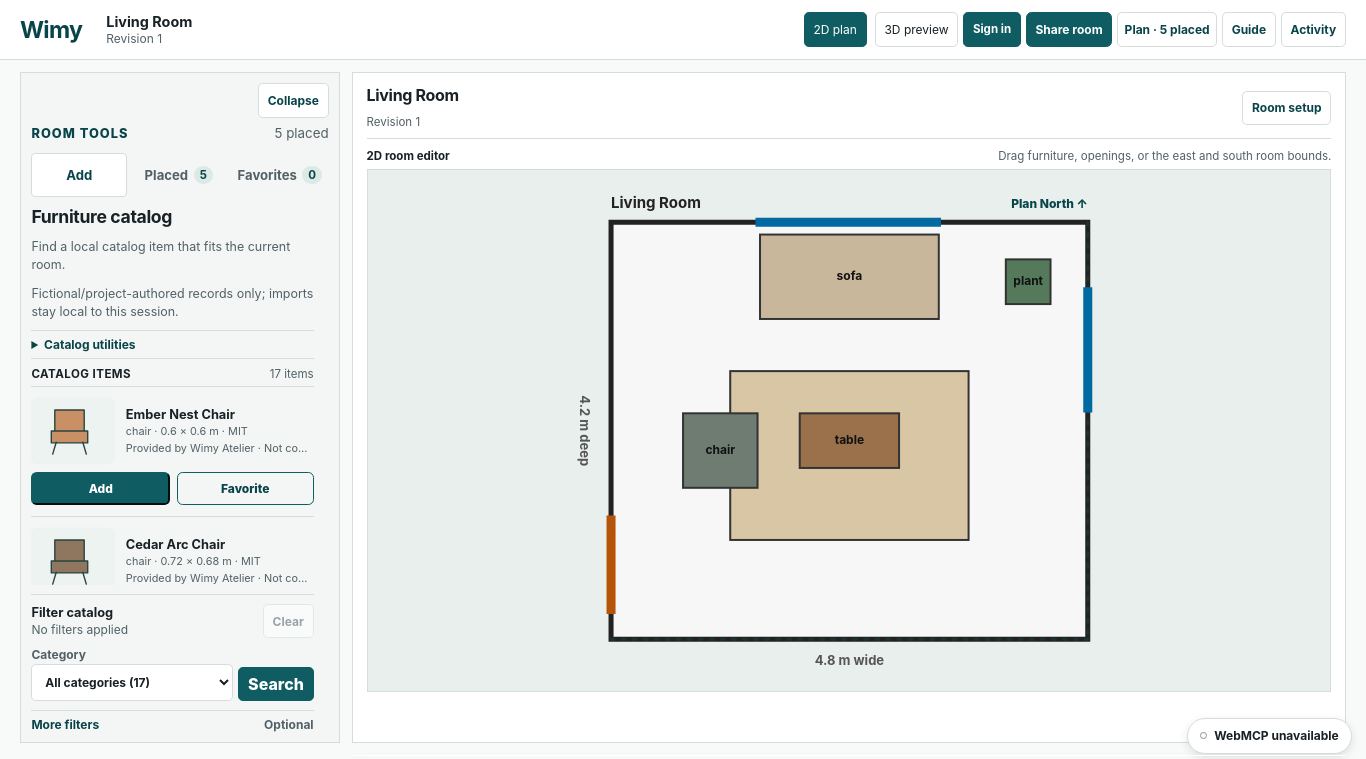
Scenario: App › keeps only one overlay active and puts real file controls in Share
Click the button "Share room" at (1069, 30), box [1026, 12, 1112, 47]
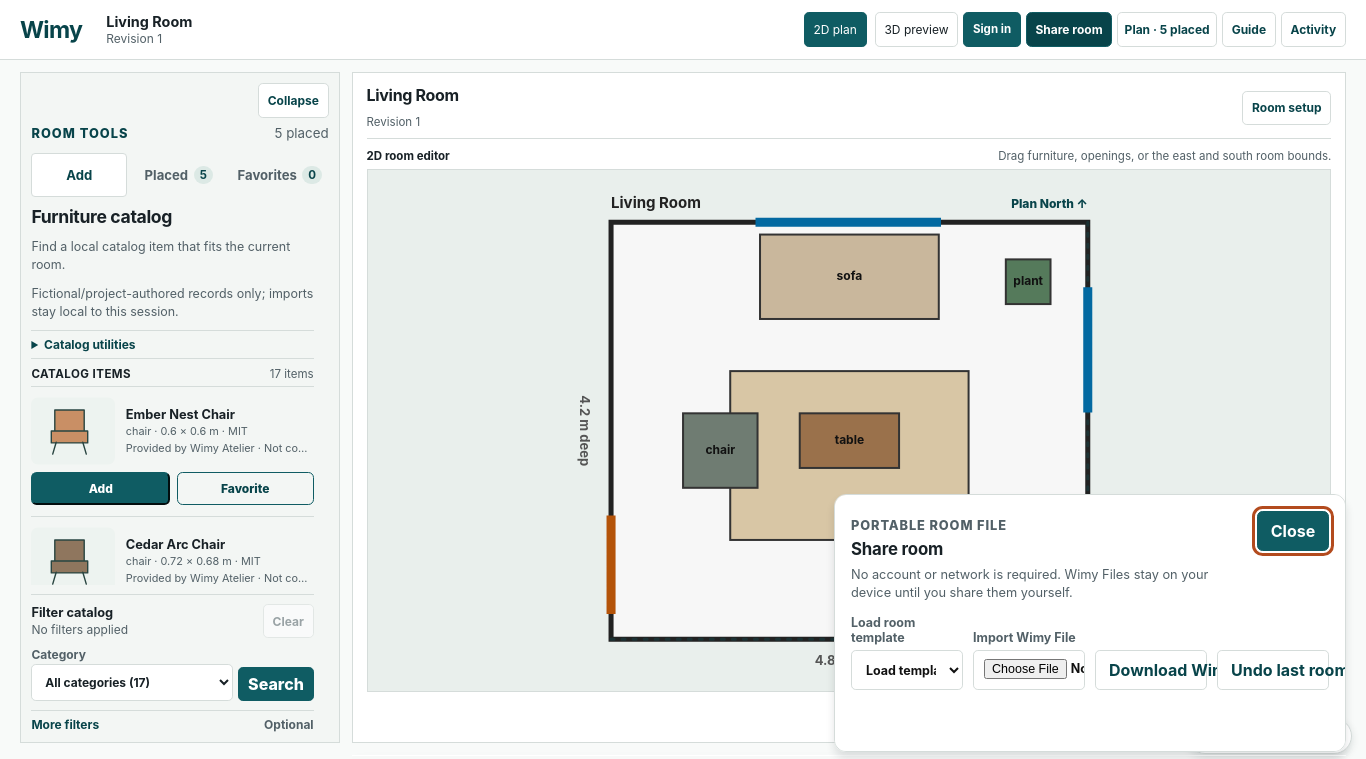
Check: the dropdown labelled "Load room template" is shown, box [851, 650, 963, 690]
Check: the file field named "Import .wimy file" is shown, box [973, 650, 1085, 690]
Check: the button with aria-label "Export .wimy" is shown, box [1095, 650, 1207, 690]
Click the button with aria-label "Help and agent guidance" at (1249, 30), box [1222, 12, 1276, 47]
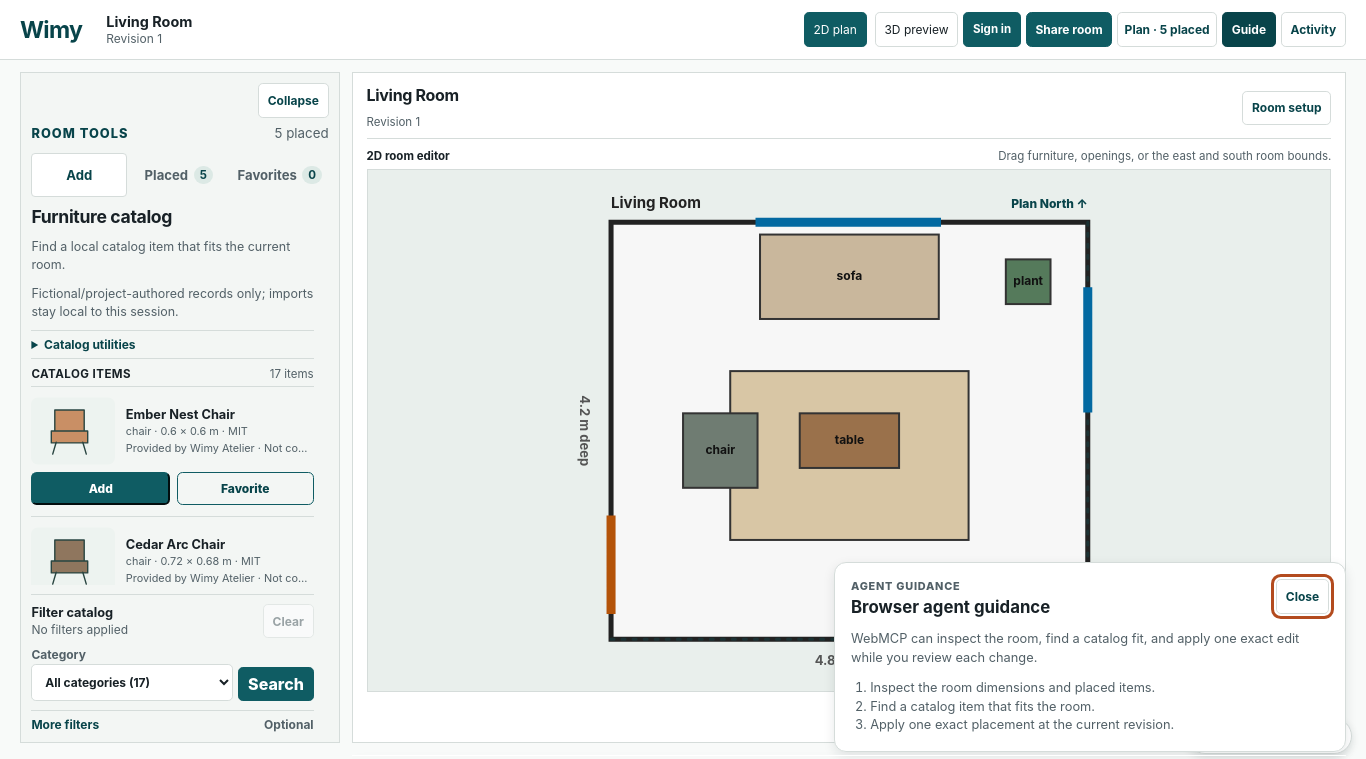
Check: the dialog "Browser agent guidance" is shown, box [834, 562, 1346, 752]
Click the button "Share room" at (1069, 30), box [1026, 12, 1112, 47]
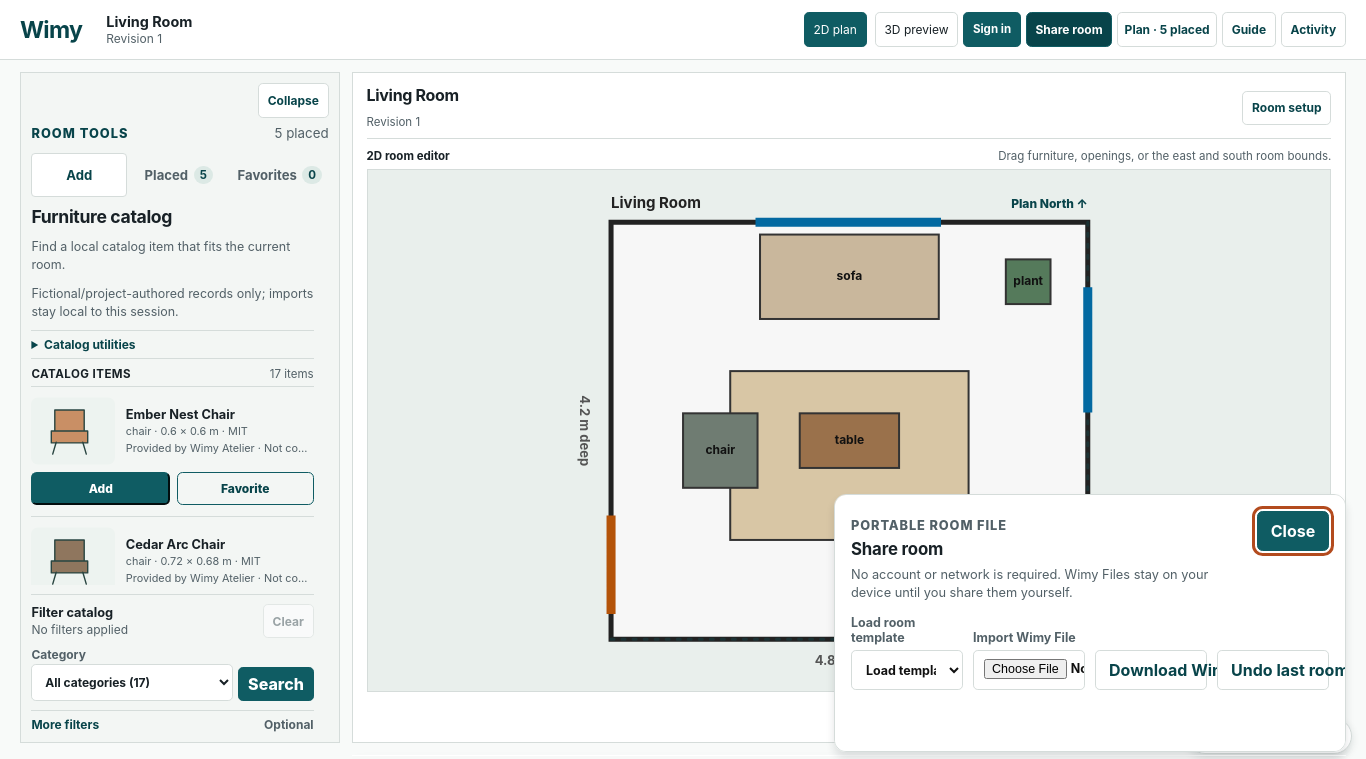
Check: the heading "Browser agent guidance" is gone
Check: the dialog "Share room" is shown, box [834, 494, 1346, 752]
